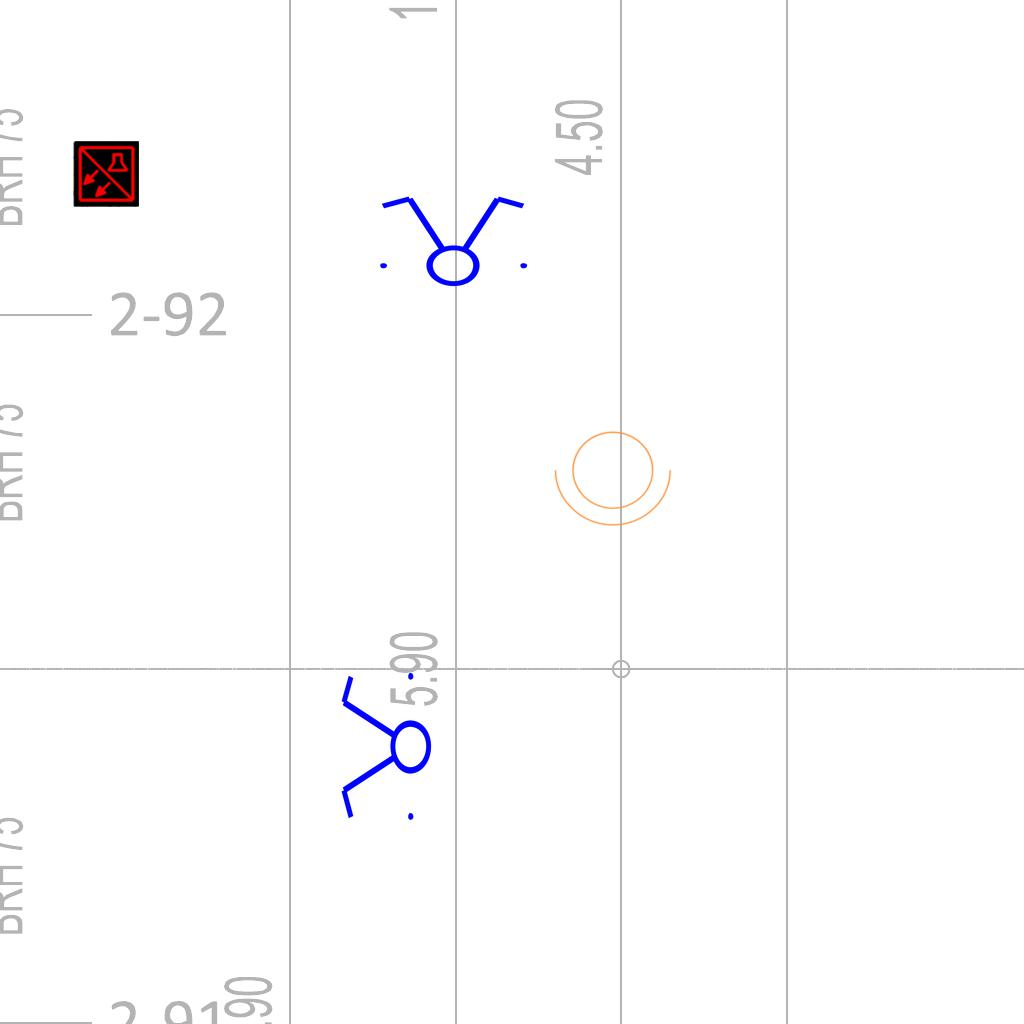OKW_Multisensormelder_(Kombination_optischer_Rauch-Kahlenmonoxid_Waerme-Melder): (73, 141, 139, 207)
Scheinwerfer_fuer_Alarmbeleuchtung: (550, 419, 682, 531)
Serienschalter: (368, 192, 536, 288), (337, 664, 433, 832)
